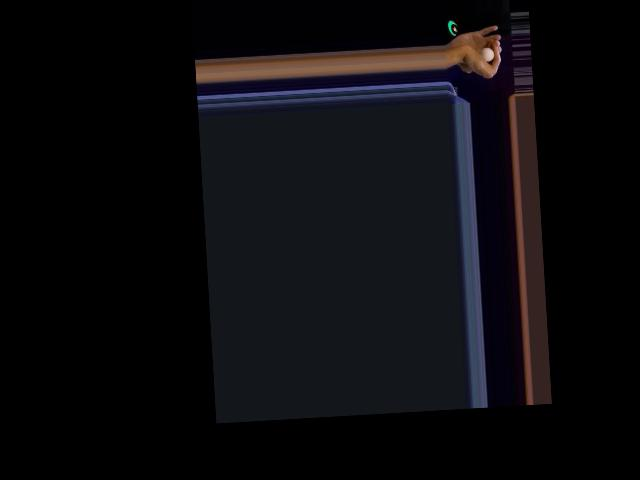egg: (482, 47, 494, 62)
